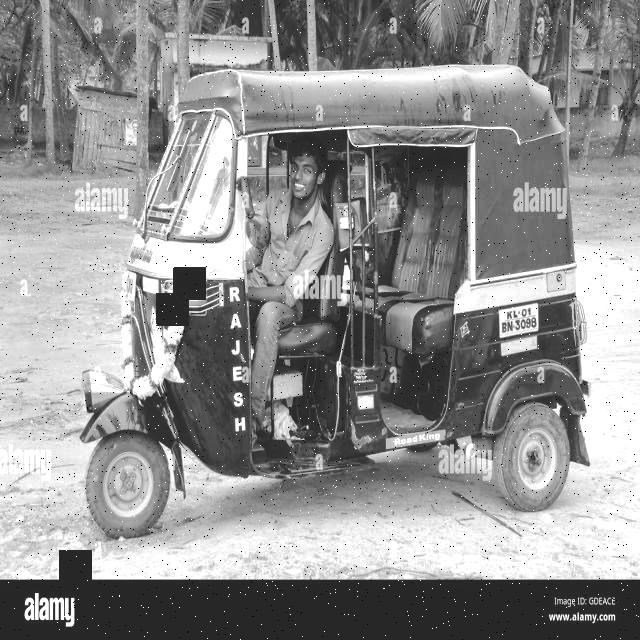Auto-Rickshaw: (68, 57, 598, 545)
